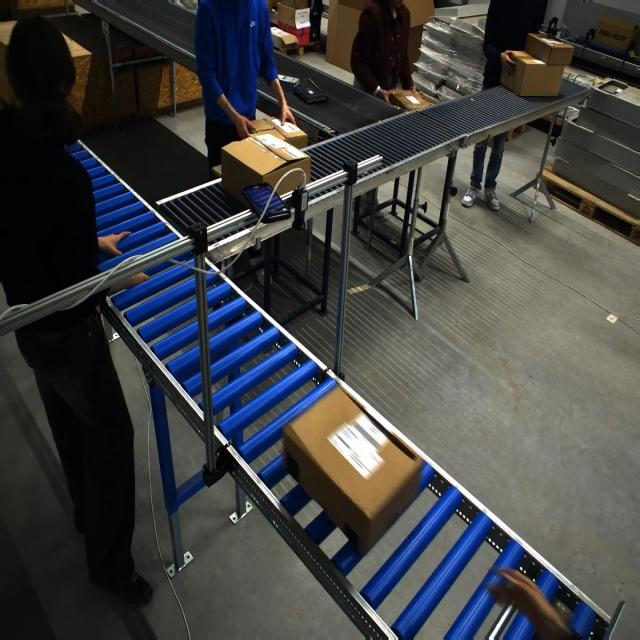box: (291, 393, 415, 548), (220, 118, 309, 206), (499, 50, 563, 98), (259, 113, 308, 149), (525, 33, 574, 66)
product: (292, 76, 327, 104), (276, 74, 299, 87)
